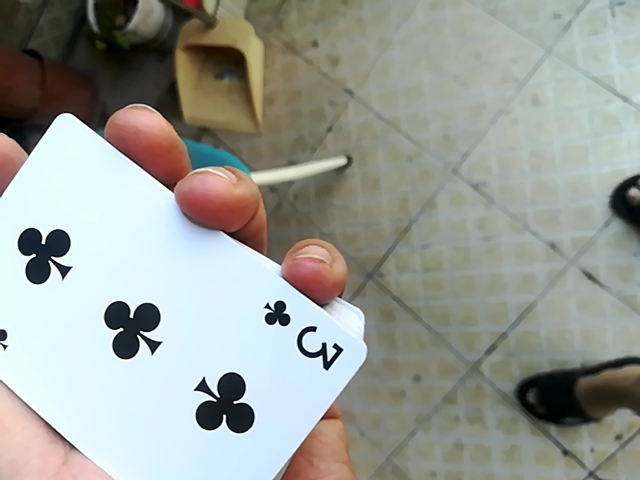mh 3: (0, 110, 375, 477)
